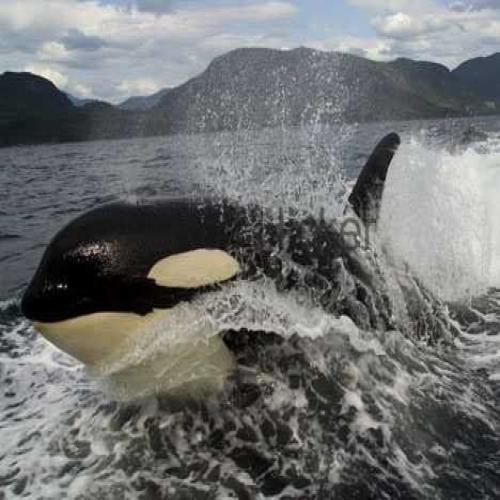killer_whale-endangered: (30, 128, 417, 404)
